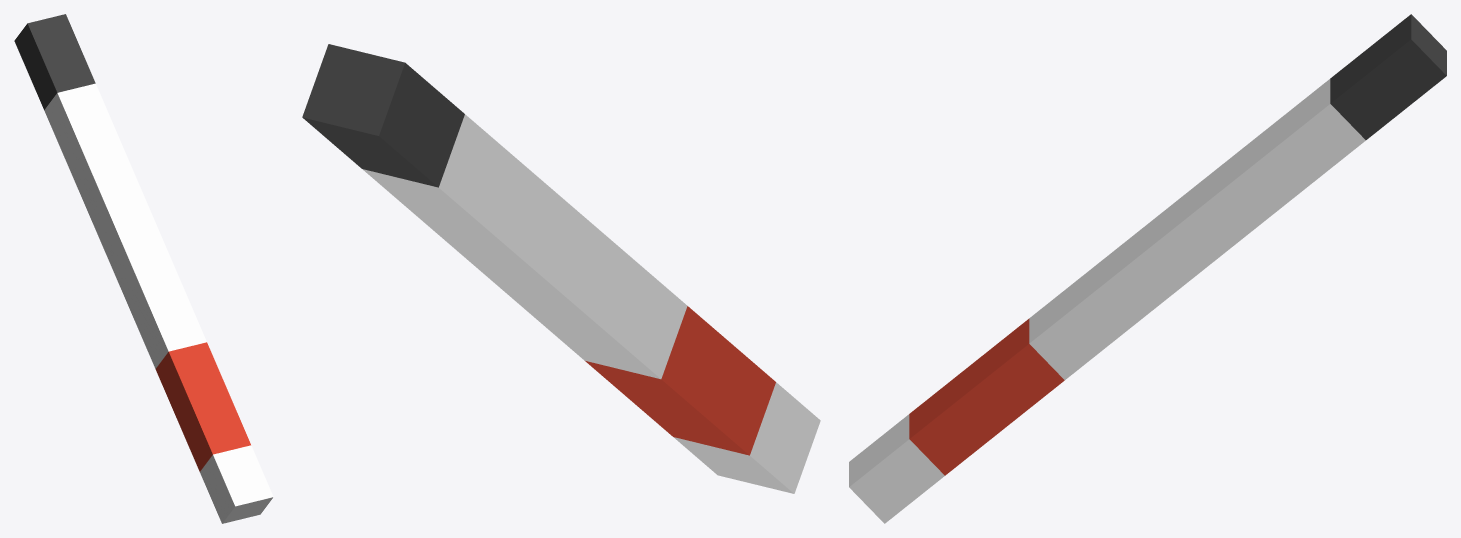
File: Visually_Impaired_Cane_Rig.fbx
3 views of the same model, side by side, from view 1: azimuth 30°, elevation 25°; view 2: azimuth 150°, elevation 25°; view 3: azimuth 270°, elevation 25° (orthographic). The views are drawn at different scales.
Parts seen in each view (by area): view 1: white_cane; view 2: white_cane; view 3: white_cane.
Boxes of the visible parts, x1,y1,x2,y2 form: white_cane: (14, 14, 273, 523); white_cane: (302, 44, 820, 493); white_cane: (849, 14, 1446, 523).
Bounding box in the file's own units: 0.1849 × 1.65 × 1.84.
